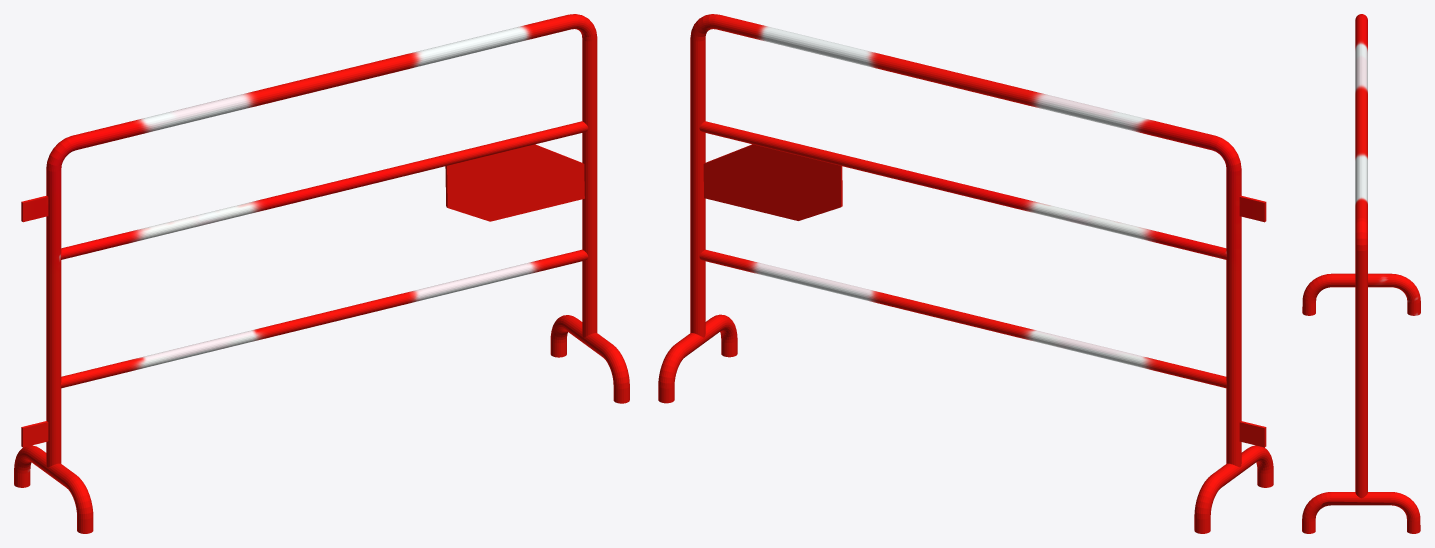
Rendered from Barrere.fbx.
3 views of the same model, side by side, from view 1: azimuth 30°, elevation 25°; view 2: azimuth 150°, elevation 25°; view 3: azimuth 270°, elevation 25° (orthographic). The views are drawn at different scales.
Visible parts, largest first — view 1: Barriere; view 2: Barriere; view 3: Barriere.
Boxes of the visible parts, bbox=[...] form: Barriere: bbox=[14, 14, 629, 533]; Barriere: bbox=[658, 14, 1273, 533]; Barriere: bbox=[1302, 14, 1420, 533].
Bounding box in the file's own units: 1055 × 643 × 227.
1 material, 1 textured.
